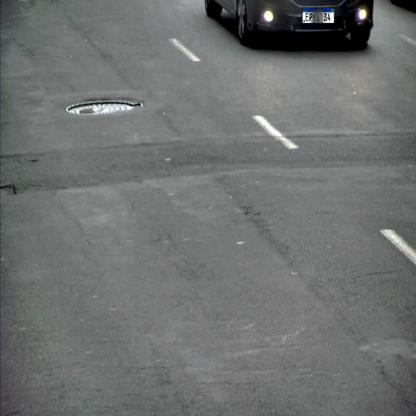PlacaM: (302, 7, 334, 24)
